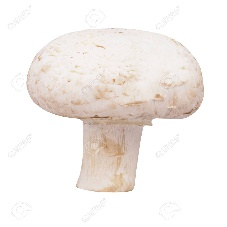mushroom: (22, 26, 206, 197)
